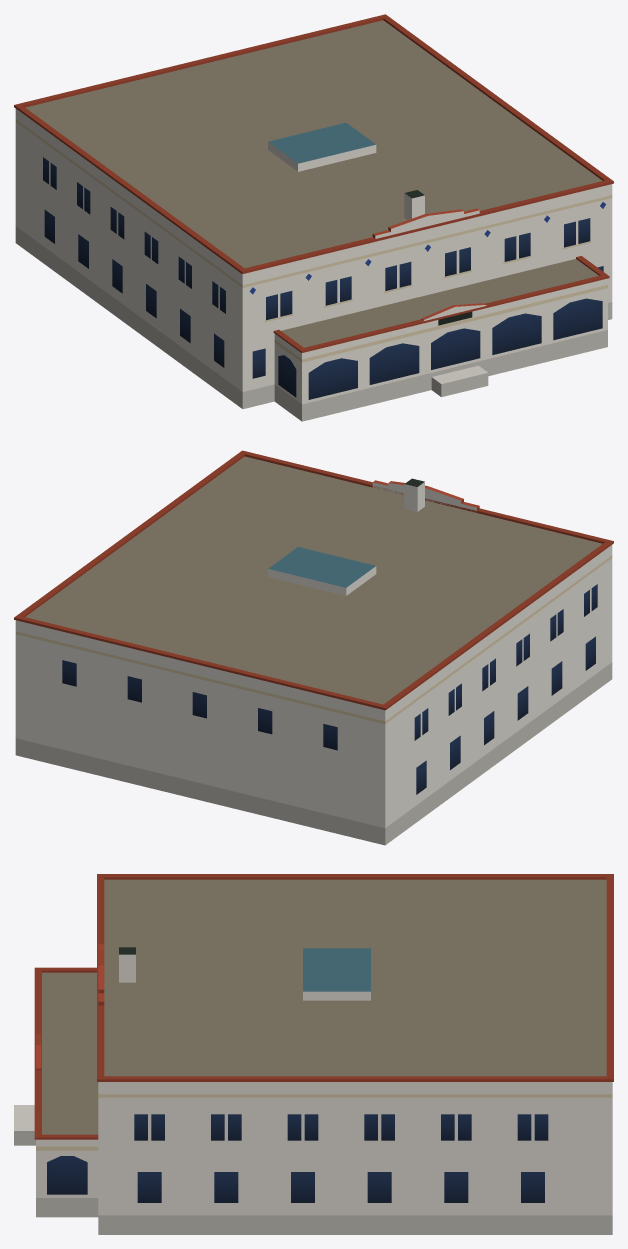
The model's file is lamar.glb.
3 views of the same model, one above another, from view 1: azimuth 30°, elevation 25°; view 2: azimuth 150°, elevation 25°; view 3: azimuth 270°, elevation 25° (orthographic). The views are drawn at different scales.
Parts seen in each view (by area): view 1: Lamar; view 2: Lamar; view 3: Lamar.
Part boxes in pixels (x1=…): Lamar: x1=14, y1=14, x2=613, y2=421; Lamar: x1=14, y1=450, x2=613, y2=845; Lamar: x1=14, y1=874, x2=613, y2=1234.
Bounding box in the file's own units: 28.51 × 11.78 × 35.21.
